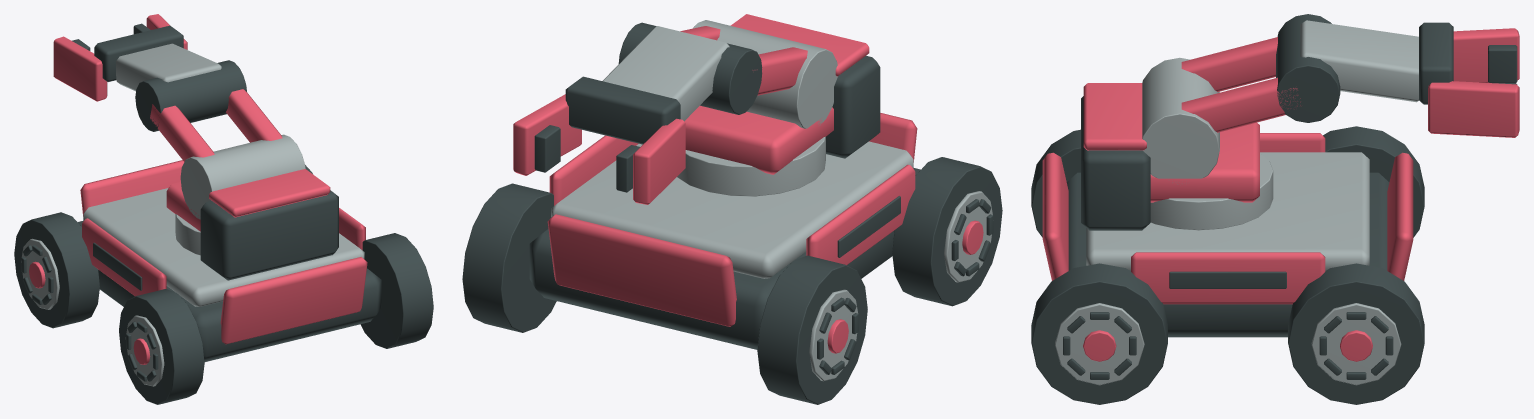
File: engineer-red.glb
The picture shows the model from 3 angles, left to right: view 1: azimuth 30°, elevation 25°; view 2: azimuth 150°, elevation 25°; view 3: azimuth 270°, elevation 25°; orthographic projection. The views are drawn at different scales.
Visible parts, largest first — view 1: engineer-chassis, engineer-armor, engineer-mechanics; view 2: engineer-chassis, engineer-mechanics, engineer-armor; view 3: engineer-chassis, engineer-mechanics, engineer-armor.
Part boxes in pixels (box(x1,y1,x2,y2)): engineer-chassis: box(14, 23, 433, 404); engineer-armor: box(29, 14, 367, 364); engineer-mechanics: box(21, 43, 364, 386); engineer-chassis: box(462, 22, 1002, 404); engineer-mechanics: box(551, 20, 992, 381); engineer-armor: box(513, 14, 983, 353); engineer-chassis: box(1031, 14, 1517, 404); engineer-mechanics: box(1055, 20, 1418, 385); engineer-armor: box(1042, 28, 1519, 361).
Size of the model in its own units: 0.7234 by 0.6021 by 0.914.
